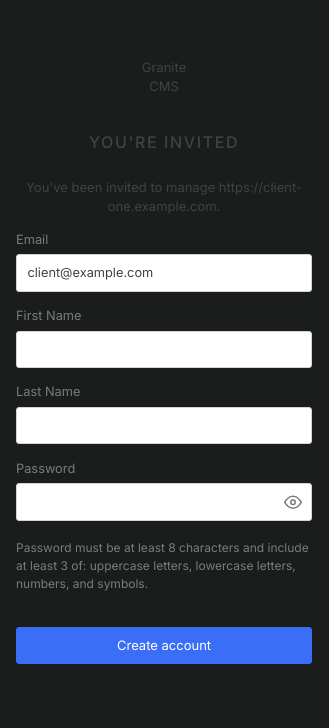
Test: ClaimInvitePage › claiming with an email that already has an account surfaces the server error inline
The width and height of the screenshot is (329, 728).
In the field labelled "First Name": (164, 349) [16, 331, 312, 368], type "New"
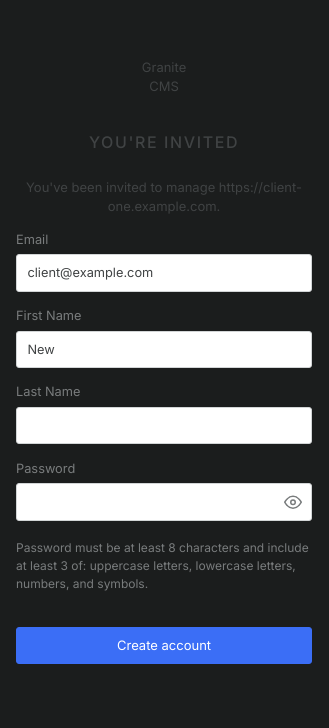
In the password field labelled "Password": (164, 502) [16, 483, 312, 521], type "Str0ng Passw0rd!"
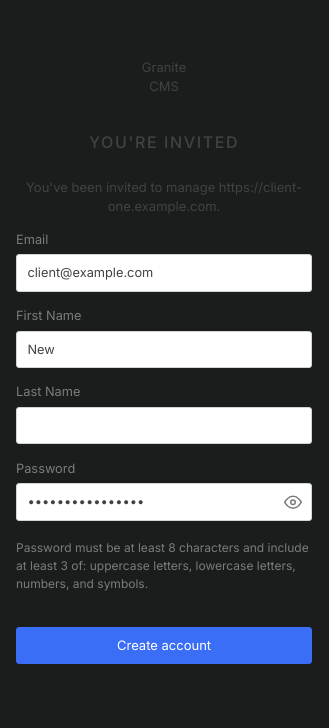
Click the button "Create account": (164, 646) [16, 627, 312, 664]
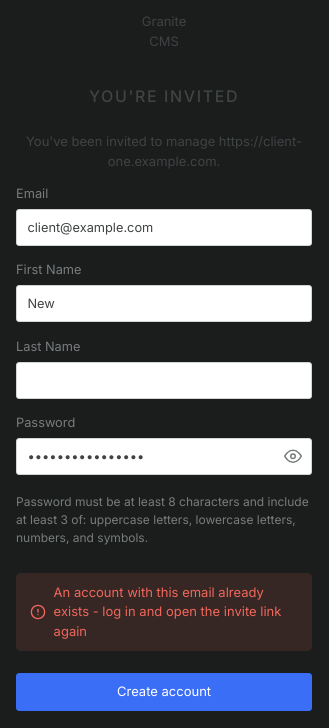
Expected: the text "An account with this email already exists - log in and open the invite link again" is shown, [54, 584, 281, 639]
